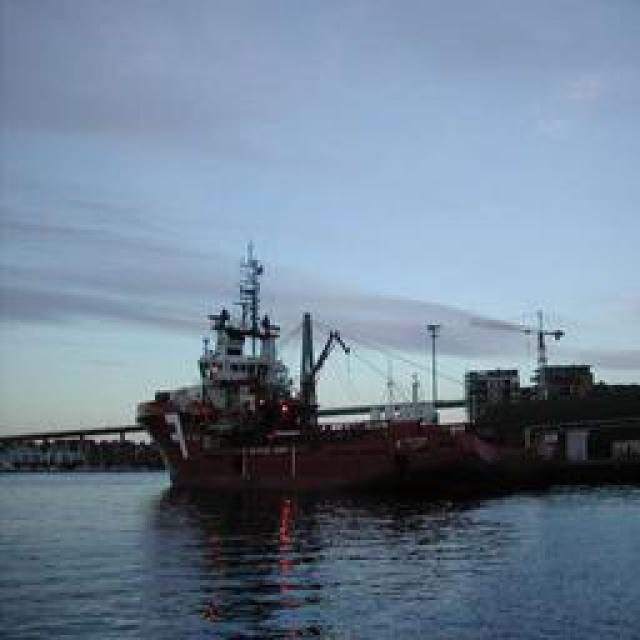Ship: (140, 232, 553, 495)
